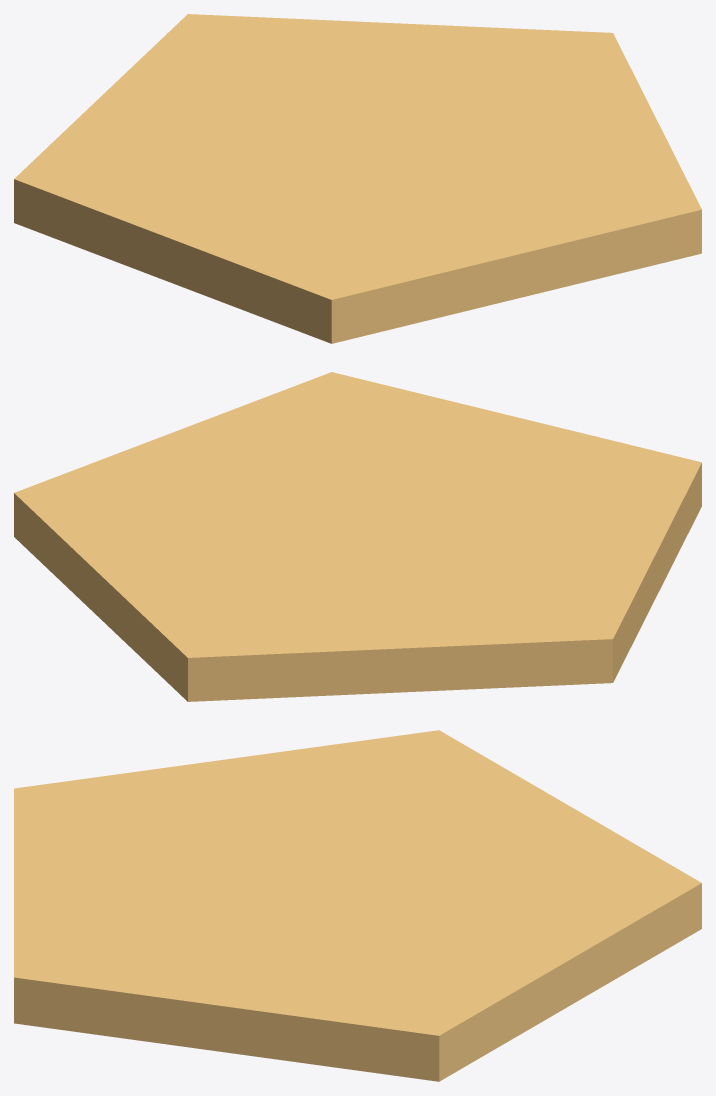
Rendered from pentagono.glb.
The picture shows the model from 3 angles, top to bottom: view 1: azimuth 30°, elevation 25°; view 2: azimuth 150°, elevation 25°; view 3: azimuth 270°, elevation 25°; orthographic projection. The views are drawn at different scales.
Visible parts, largest first — view 1: Cilindro; view 2: Cilindro; view 3: Cilindro.
Boxes of the visible parts, <box> form: Cilindro: <box>14,14,701,343</box>; Cilindro: <box>14,372,701,701</box>; Cilindro: <box>14,730,701,1081</box>.
Size of the model in its own units: 1.14 by 0.08 by 1.09.
